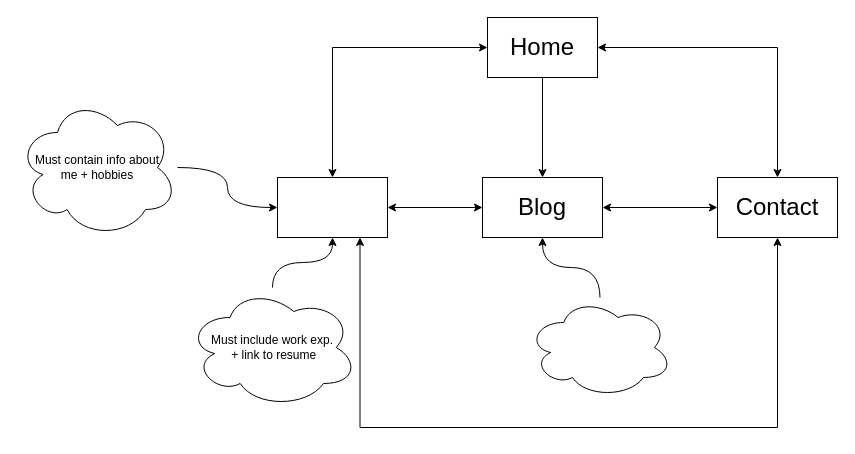
Some shapes in this 855 by 454 pixel diagram are drawn without their labels. The shapes that lost their labels are listed below. From the top down, each one's centre as x and y in pixels, then its label:
At point (332, 207): "About me".
At point (599, 347): "Must include 5 posts w image".
